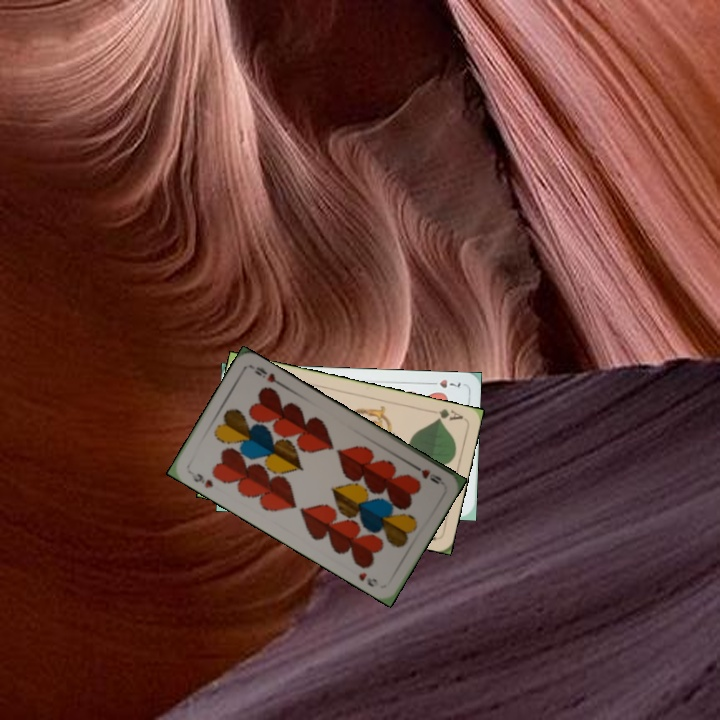GA: (431, 405, 465, 423)
H7: (424, 375, 463, 391)
H9: (408, 461, 444, 487), (185, 468, 216, 491)
